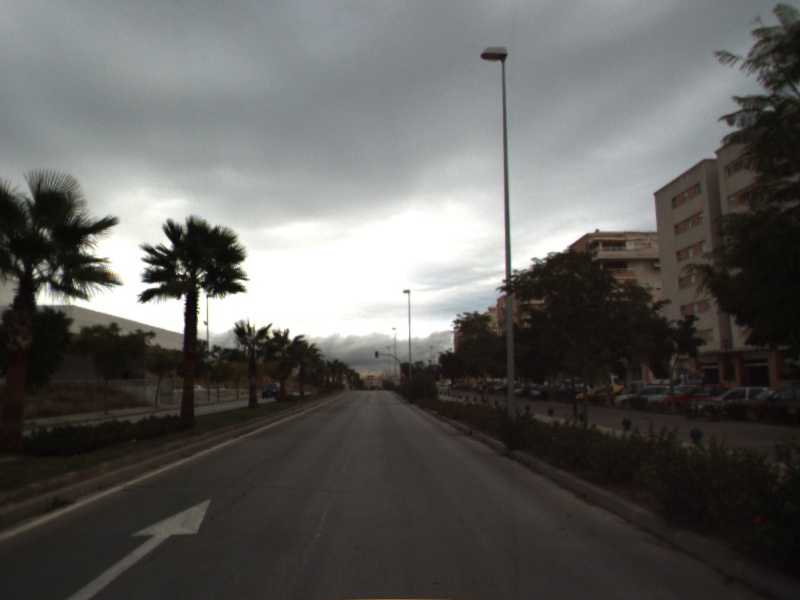STRAIGHT: (63, 496, 213, 600)
